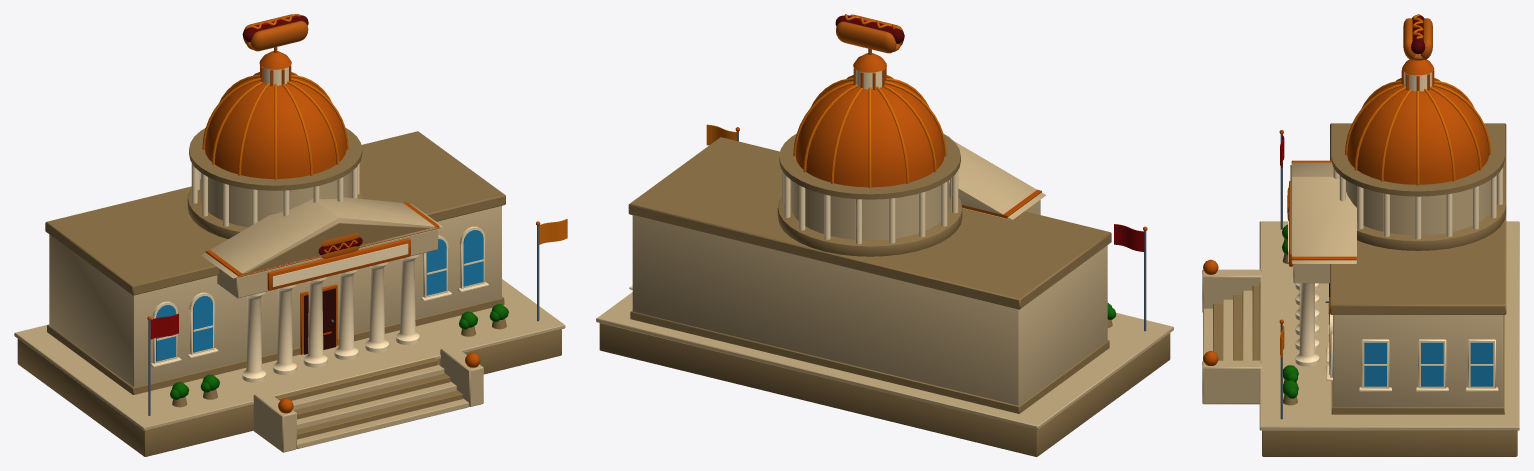
Rendered from RepublicCapitol.obj.
3 views of the same model, side by side, from view 1: azimuth 30°, elevation 25°; view 2: azimuth 150°, elevation 25°; view 3: azimuth 270°, elevation 25° (orthographic). The views are drawn at different scales.
Parts seen in each view (by area): view 1: RepublicCapitol; view 2: RepublicCapitol; view 3: RepublicCapitol.
Boxes of the visible parts, x1=… form: RepublicCapitol: x1=14, y1=14, x2=567, y2=456; RepublicCapitol: x1=596, y1=14, x2=1173, y2=456; RepublicCapitol: x1=1202, y1=14, x2=1519, y2=456.
Bounding box in the file's own units: 35.35 × 25.64 × 22.35.
